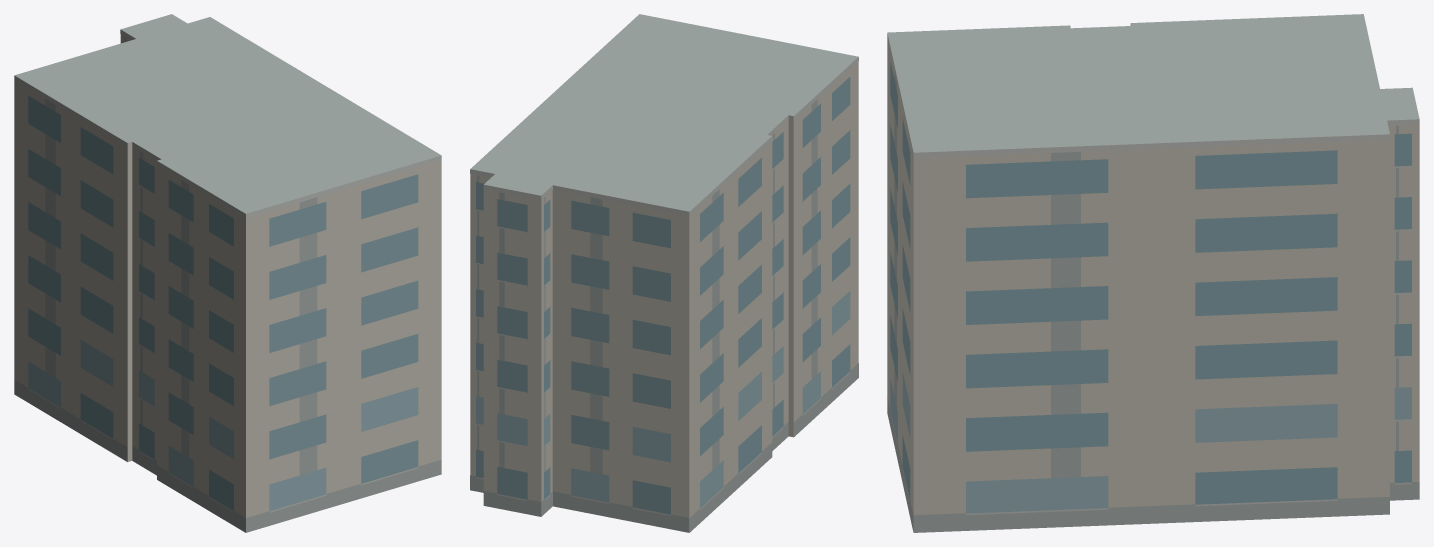
File: survey-upis-32991493.glb
The picture shows the model from 3 angles, left to right: view 1: azimuth 30°, elevation 25°; view 2: azimuth 150°, elevation 25°; view 3: azimuth 270°, elevation 25°; orthographic projection. The views are drawn at different scales.
Visible parts, largest first — view 1: survey-upis-32991493.tmp; view 2: survey-upis-32991493.tmp; view 3: survey-upis-32991493.tmp.
Part boxes in pixels (x1=…): survey-upis-32991493.tmp: x1=14, y1=14, x2=441, y2=532; survey-upis-32991493.tmp: x1=470, y1=14, x2=858, y2=532; survey-upis-32991493.tmp: x1=887, y1=14, x2=1419, y2=532.
Size of the model in its own units: 13.08 by 16.7 by 21.2.
